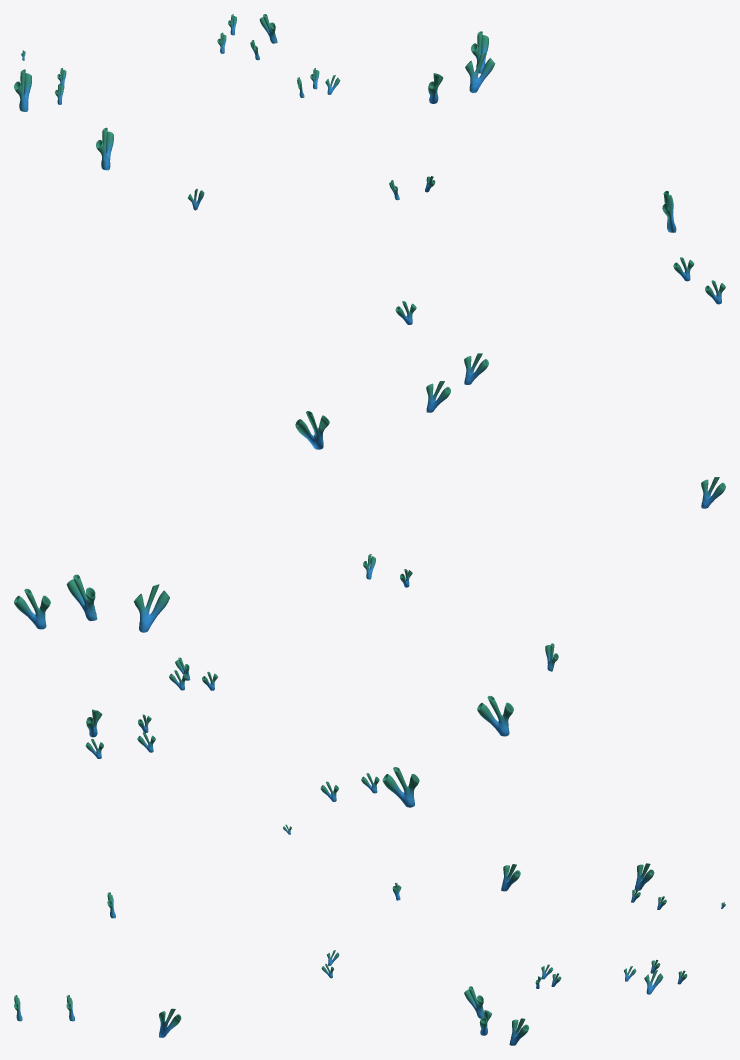
Rendered from plantA.fbx.
The picture shows the model from 3 angles, top to bottom: view 1: azimuth 30°, elevation 25°; view 2: azimuth 150°, elevation 25°; view 3: azimuth 270°, elevation 25°; orthographic projection. The views are drawn at different scales.
Parts seen in each view (by area): view 1: plantA; view 2: plantA; view 3: plantA.
Part boxes in pixels (<box>): plantA: <box>14,14,725,324</box>; plantA: <box>14,353,725,834</box>; plantA: <box>14,863,725,1045</box>.
Bounding box in the file's own units: 1818 × 150 × 3325.
